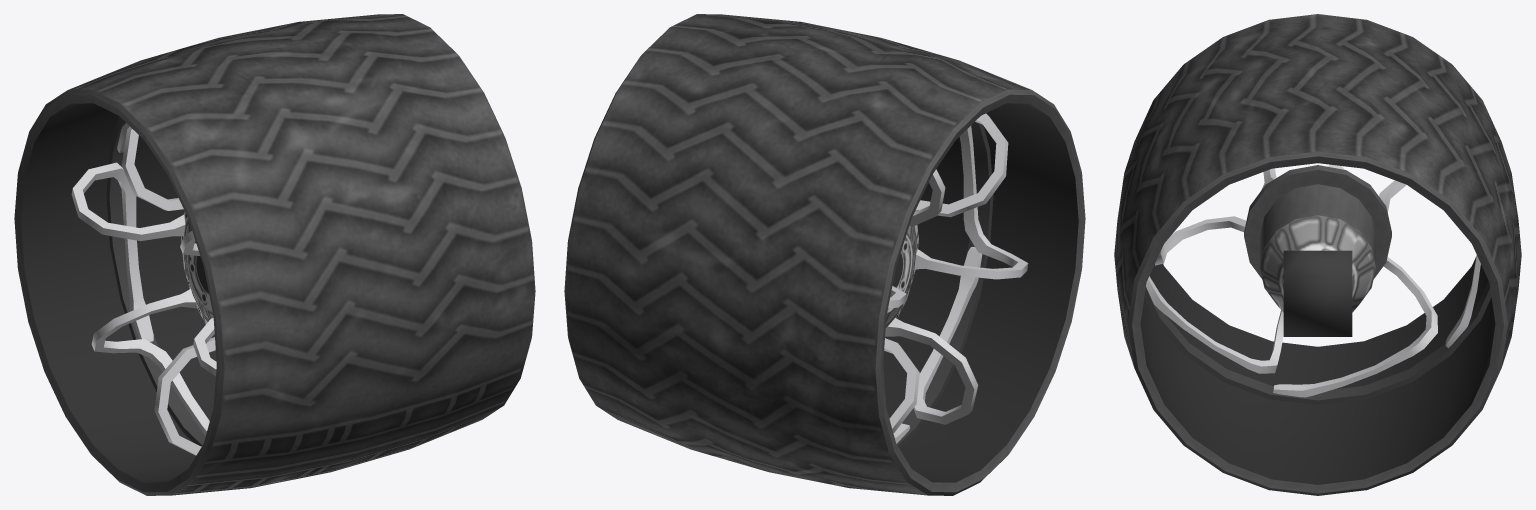
File: curiosity_clean_wheel_right_front.glb
The picture shows the model from 3 angles, left to right: view 1: azimuth 30°, elevation 25°; view 2: azimuth 150°, elevation 25°; view 3: azimuth 270°, elevation 25°; orthographic projection. The views are drawn at different scales.
Visible parts, largest first — view 1: showme_wheel_01_R; view 2: showme_wheel_01_R; view 3: showme_wheel_01_R.
Part boxes in pixels (x1,y1,x2,y2): showme_wheel_01_R: (14,14,535,495); showme_wheel_01_R: (564,14,1085,495); showme_wheel_01_R: (1114,14,1521,495).
Bounding box in the file's own units: 0.0801 × 0.0984 × 0.0984.
Materials: 1 (1 with a texture image).
